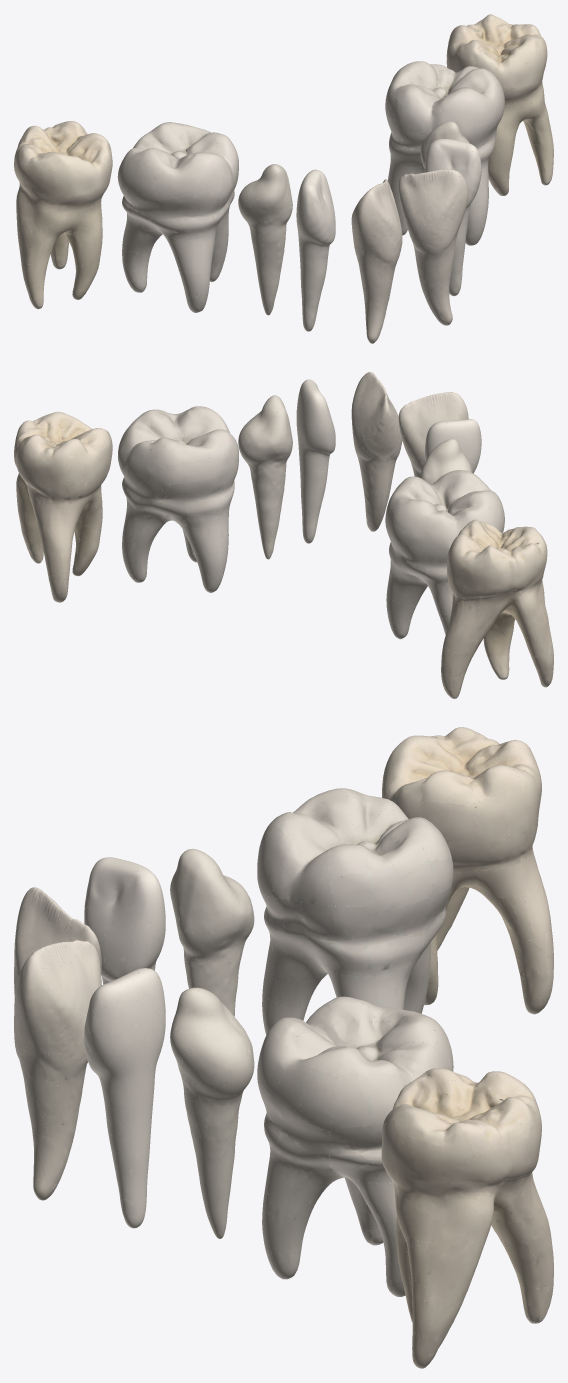
The model's file is superior_temporal_optimizado.glb.
3 renders of one model, top to bottom at view 1: azimuth 30°, elevation 25°; view 2: azimuth 150°, elevation 25°; view 3: azimuth 270°, elevation 25°, orthographic. The views are drawn at different scales.
Visible parts, largest first — view 1: diente_64, diente_65, diente_54, diente_55, diente_51, diente_61, diente_63, diente_62, diente_52, diente_53; view 2: diente_54, diente_65, diente_55, diente_64, diente_51, diente_53, diente_52, diente_61, diente_62, diente_63; view 3: diente_64, diente_55, diente_54, diente_65, diente_51, diente_52, diente_53, diente_63, diente_62, diente_61.
Part boxes in pixels (box(x1,y1,x2,y2)): diente_64: box(117, 122, 238, 312); diente_65: box(14, 121, 112, 309); diente_54: box(385, 61, 504, 245); diente_55: box(446, 14, 553, 195); diente_51: box(398, 169, 468, 325); diente_61: box(351, 179, 402, 343); diente_63: box(238, 164, 292, 315); diente_62: box(296, 169, 335, 331); diente_52: box(424, 139, 481, 296); diente_53: box(420, 121, 469, 168); diente_54: box(118, 406, 238, 592); diente_65: box(441, 519, 553, 698); diente_55: box(14, 411, 112, 602); diente_64: box(385, 470, 504, 639); diente_51: box(351, 372, 402, 531); diente_53: box(238, 395, 292, 559); diente_52: box(296, 379, 335, 543); diente_61: box(398, 392, 468, 477); diente_62: box(425, 419, 481, 473); diente_63: box(420, 438, 471, 484); diente_64: box(257, 788, 453, 1035); diente_55: box(381, 1068, 553, 1368); diente_54: box(257, 996, 453, 1296); diente_65: box(382, 727, 553, 1014); diente_51: box(14, 940, 101, 1200); diente_52: box(84, 968, 165, 1228); diente_53: box(170, 987, 254, 1238); diente_63: box(170, 848, 254, 1016); diente_62: box(84, 857, 165, 984); diente_61: box(14, 887, 101, 997).
Size of the model in its own units: 6.7 by 1.9 by 3.7.
Materials: 5 (5 with a texture image).
